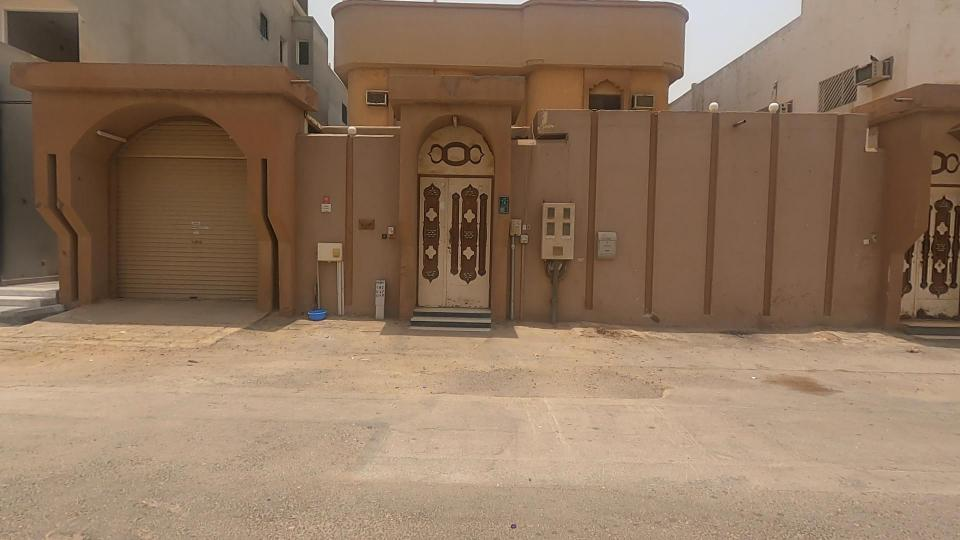GARBAGE: (276, 264, 355, 353)
